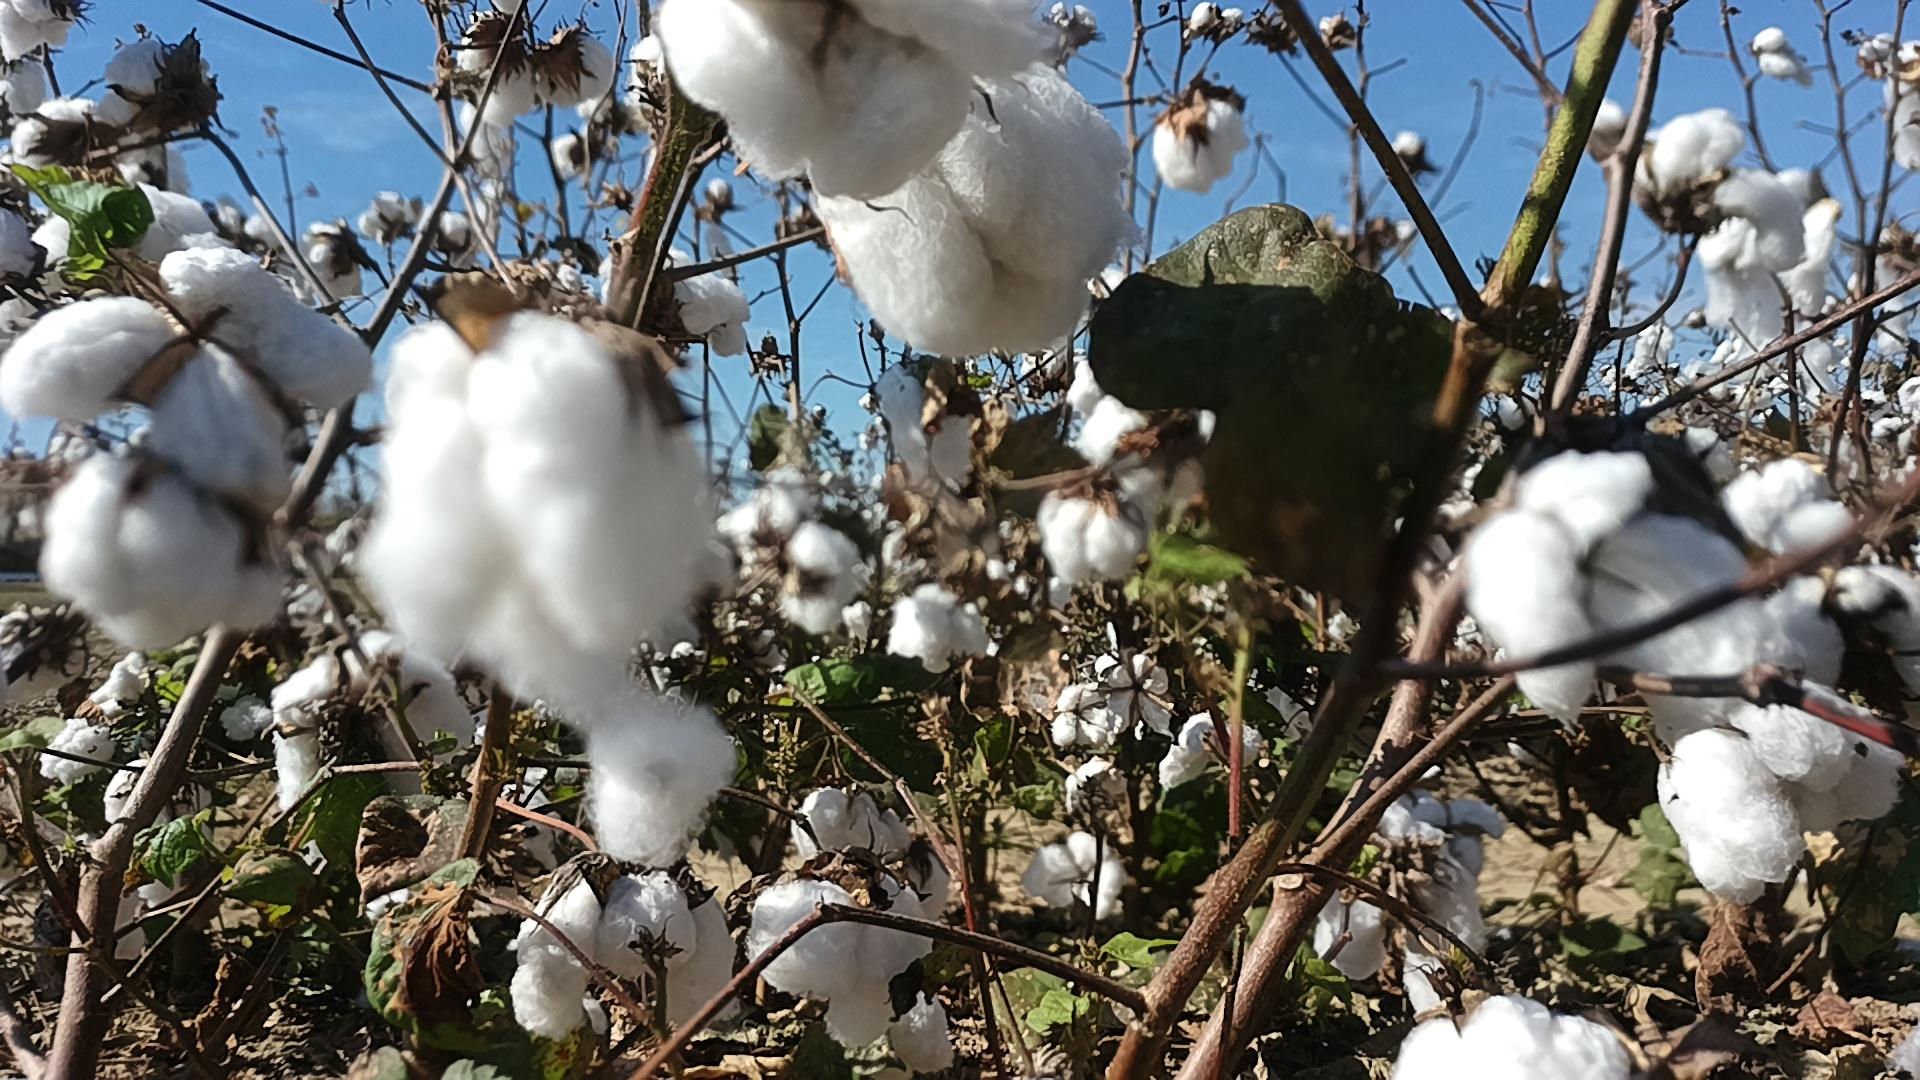cotton_ready: (364, 310, 717, 873), (0, 243, 378, 509), (812, 51, 1130, 356), (1465, 455, 1774, 717), (655, 0, 1068, 193), (1635, 678, 1905, 903), (44, 451, 287, 651), (510, 868, 741, 1039), (272, 628, 473, 815), (748, 865, 938, 1052), (1631, 109, 1808, 265), (1704, 164, 1846, 331), (1043, 443, 1205, 585), (1063, 356, 1204, 516), (713, 489, 861, 636), (1762, 560, 1920, 688), (1393, 996, 1626, 1080), (8, 94, 193, 194), (593, 247, 753, 360), (36, 186, 228, 273), (456, 17, 608, 120), (873, 363, 980, 493), (84, 36, 215, 141), (1727, 455, 1853, 564), (798, 781, 914, 873), (1387, 853, 1487, 957), (1018, 835, 1127, 926), (1155, 98, 1253, 194), (893, 588, 994, 671), (1155, 716, 1263, 791), (1316, 893, 1398, 981), (1108, 659, 1178, 745), (1383, 793, 1502, 843), (301, 220, 368, 301), (0, 0, 78, 66), (893, 996, 956, 1076), (1054, 683, 1113, 749)
